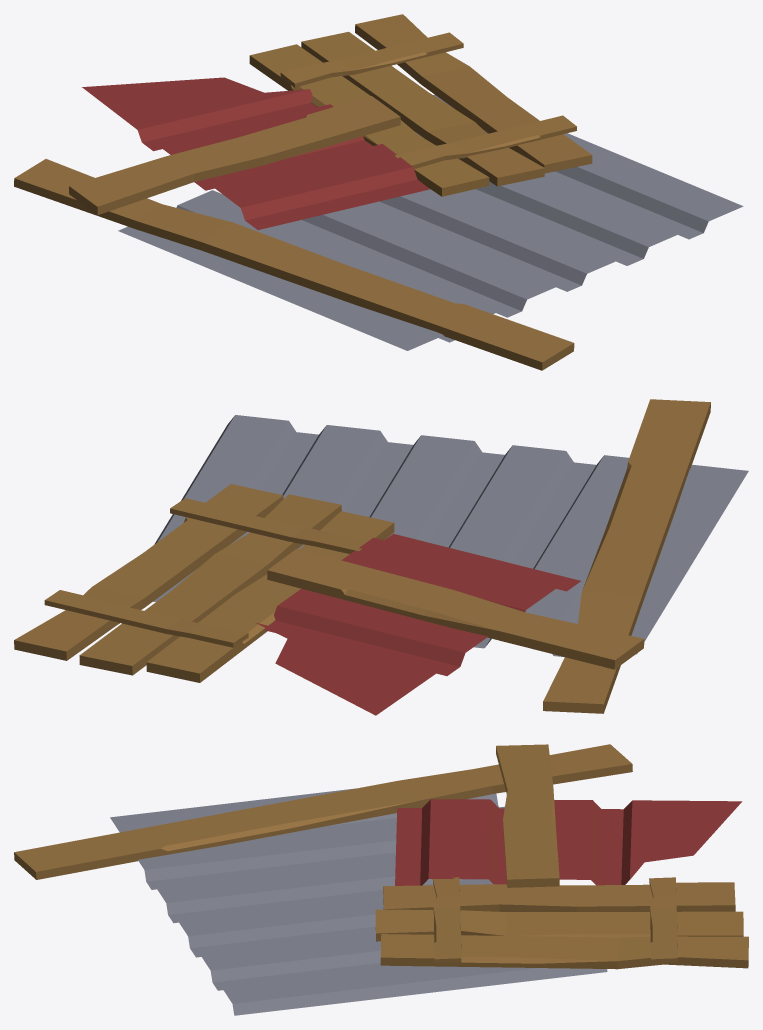
The model's file is debris_pile.glb.
3 views of the same model, one above another, from view 1: azimuth 30°, elevation 25°; view 2: azimuth 150°, elevation 25°; view 3: azimuth 270°, elevation 25° (orthographic). The views are drawn at different scales.
Visible parts, largest first — view 1: Debris_Pile; view 2: Debris_Pile; view 3: Debris_Pile.
Boxes of the visible parts, x1,y1,x2,y2 form: Debris_Pile: (14,14,743,370); Debris_Pile: (14,399,748,715); Debris_Pile: (14,744,748,1015).
Size of the model in its own units: 2.12 by 0.1635 by 2.63.
